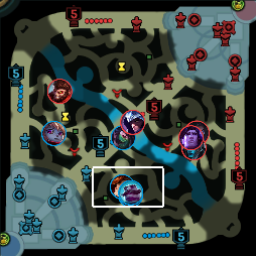akali: (110, 125, 135, 149)
braum: (118, 180, 142, 204)
kalista: (181, 136, 206, 159)
missfortune: (109, 174, 133, 198)
monkeyking: (46, 79, 72, 104)
poppy: (41, 121, 65, 146)
sylas: (185, 119, 208, 143)
talon: (119, 110, 144, 133)
taric: (178, 126, 203, 149)
